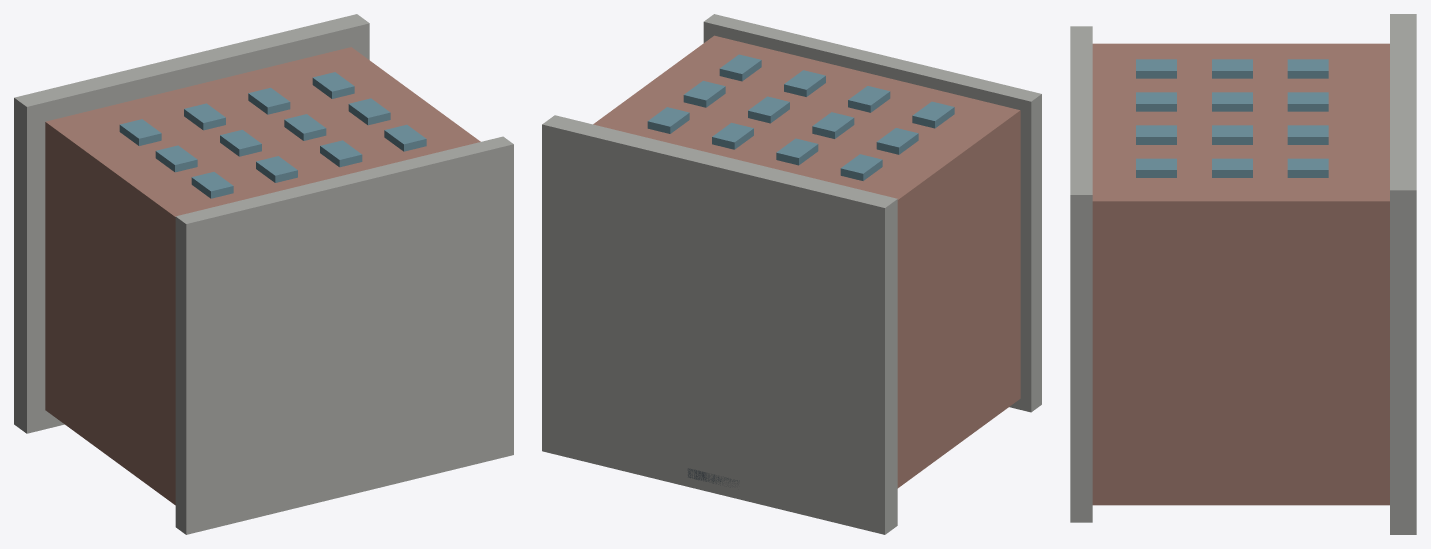
Rendered from AGE_V_residential.glb.
3 renders of one model, left to right at view 1: azimuth 30°, elevation 25°; view 2: azimuth 150°, elevation 25°; view 3: azimuth 270°, elevation 25°, orthographic. The views are drawn at different scales.
Visible parts, largest first — view 1: world; view 2: world; view 3: world.
Part boxes in pixels (<box>): world: <box>14,14,513,534</box>; world: <box>542,14,1041,534</box>; world: <box>1070,14,1416,534</box>.
Bounding box in the file's own units: 5.6 × 5.1 × 4.65.
